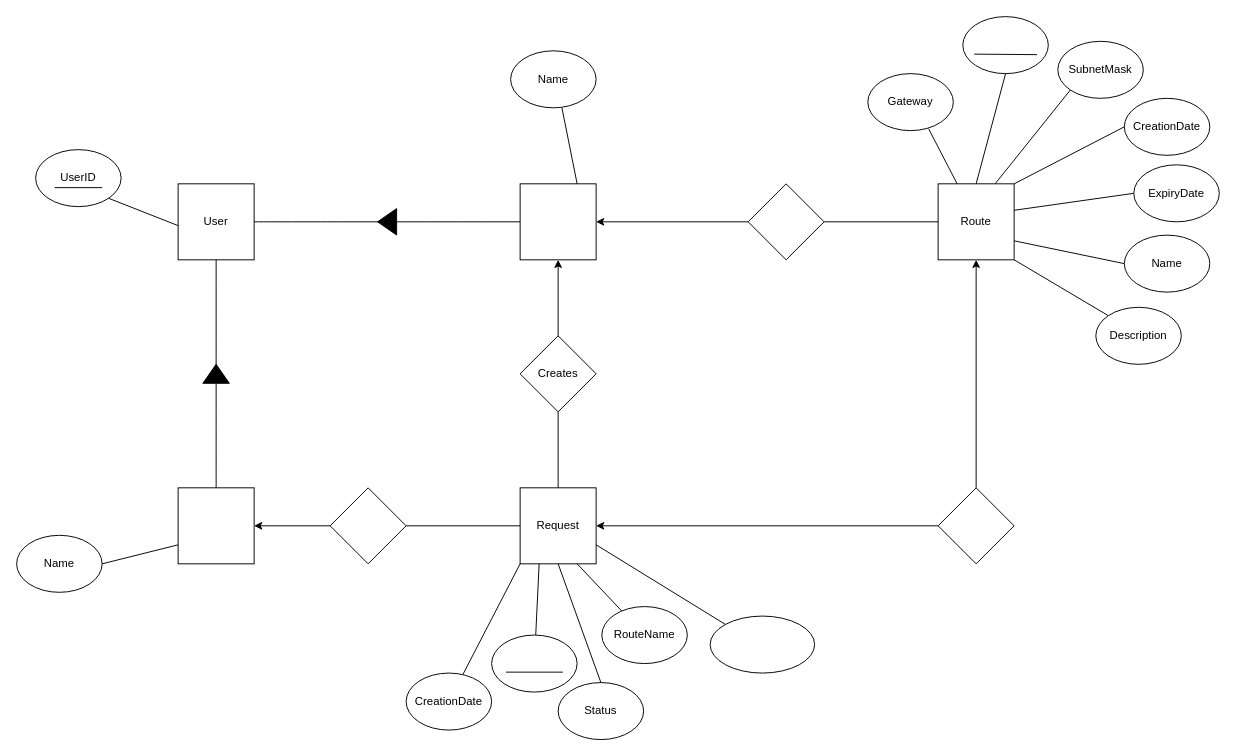
Image size: 1236x756. Some labels were removed from this diagram. The shapes that lost their labels are listed below. From the top down, each one's centre as x and y in pixels, then its label:
the point at 1005,45: Destination
the point at 557,221: Employee
the point at 785,221: Owns
the point at 215,525: Admin
the point at 367,525: Reviews
the point at 975,525: Initiates
the point at 534,663: RequestID
the point at 762,644: RouteDescription
